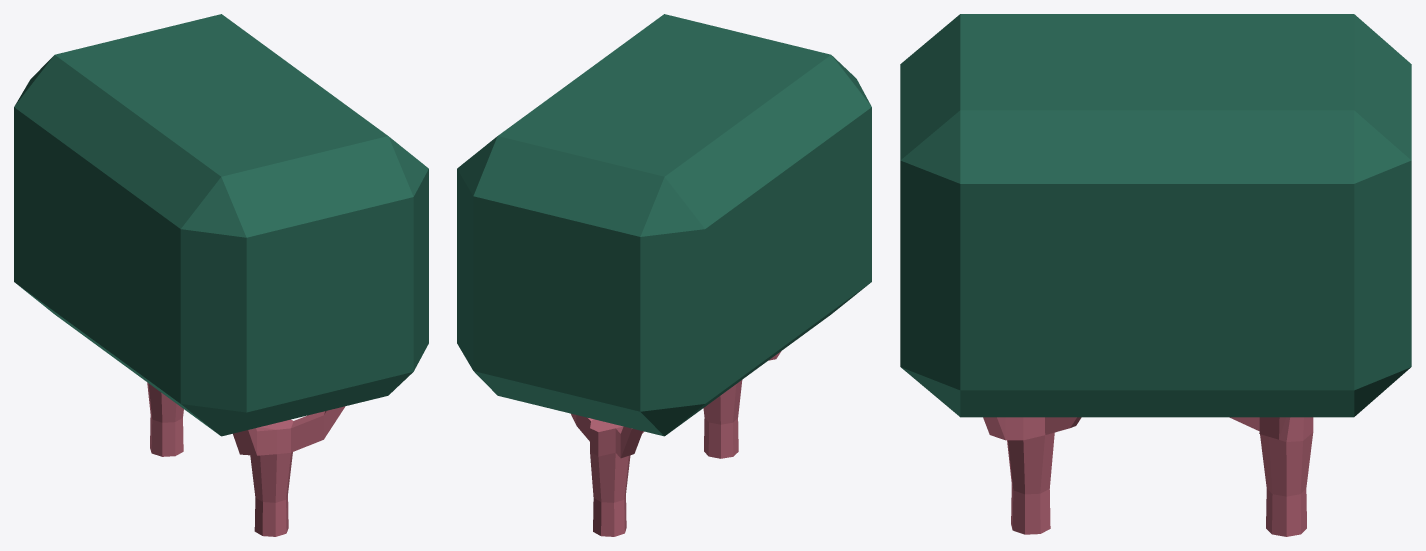
The model's file is hedge.obj.
3 views of the same model, side by side, from view 1: azimuth 30°, elevation 25°; view 2: azimuth 150°, elevation 25°; view 3: azimuth 270°, elevation 25° (orthographic). The views are drawn at different scales.
Visible parts, largest first — view 1: Hedge_Cube; view 2: Hedge_Cube; view 3: Hedge_Cube.
Boxes of the visible parts, left/top/right/bottom form: Hedge_Cube: left=14, top=14, right=428, bottom=536; Hedge_Cube: left=457, top=14, right=871, bottom=536; Hedge_Cube: left=900, top=14, right=1411, bottom=536.
Size of the model in its own units: 2 by 3.04 by 3.02.
Materials: 1 (1 with a texture image).
